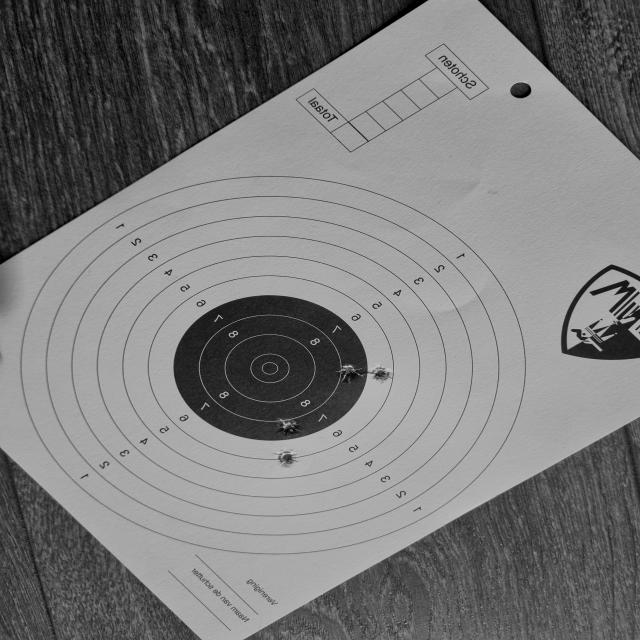6: (273, 448, 300, 468), (368, 363, 393, 383)
8: (336, 362, 362, 384), (274, 415, 300, 437)
Target: (21, 175, 528, 556)
black_contour: (173, 295, 368, 441)
